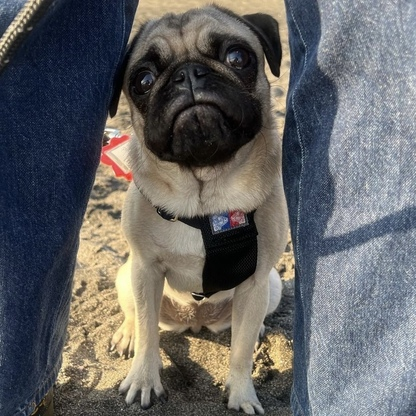Pug: (105, 1, 296, 416)
